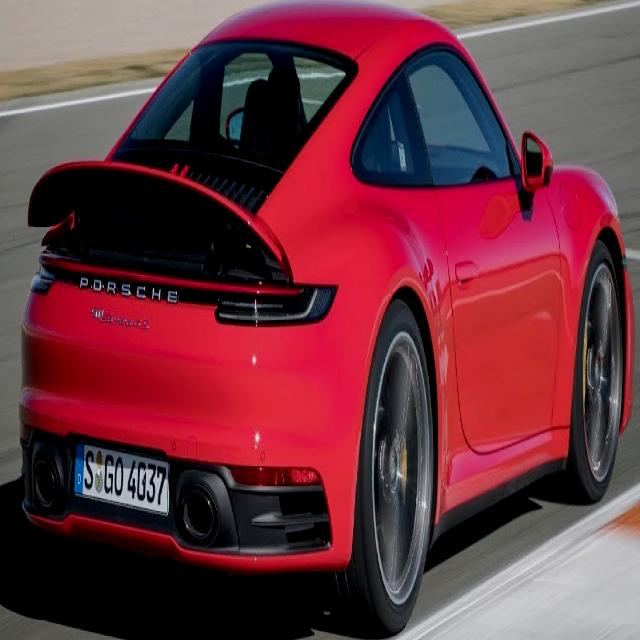red: (21, 7, 633, 616)
